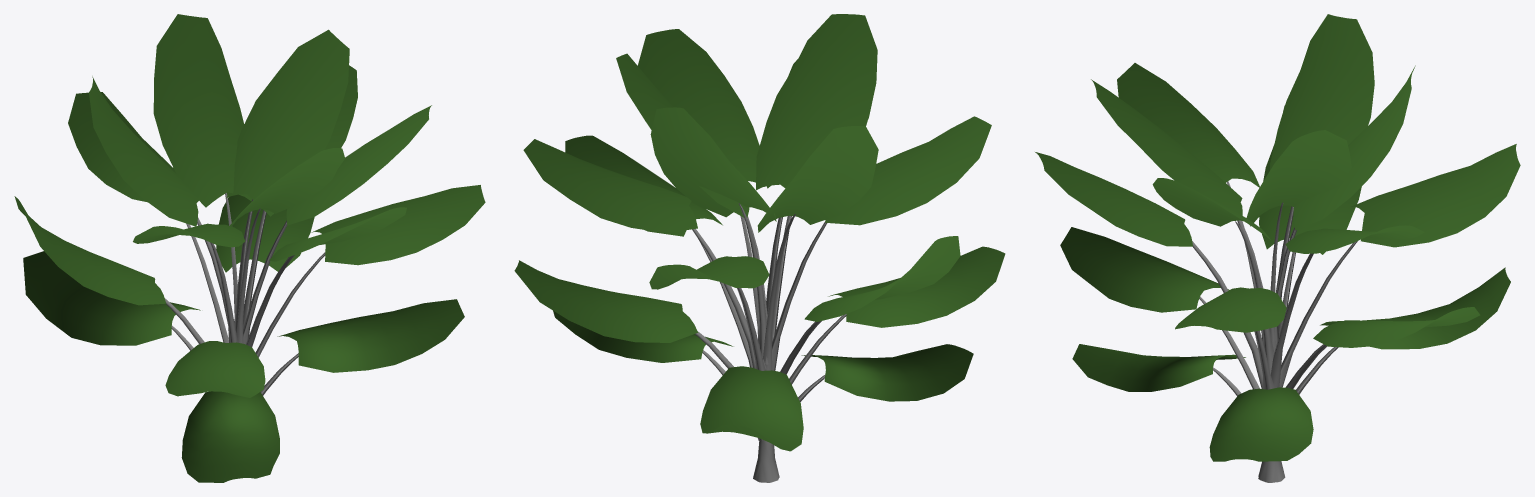
File: SM_plant_tropical_03.fbx
3 views of the same model, side by side, from view 1: azimuth 30°, elevation 25°; view 2: azimuth 150°, elevation 25°; view 3: azimuth 270°, elevation 25° (orthographic). The views are drawn at different scales.
Parts seen in each view (by area): view 1: tree018; view 2: tree018; view 3: tree018.
Boxes of the visible parts, left/top/right/bottom form: tree018: left=14, top=14, right=485, bottom=482; tree018: left=514, top=14, right=1005, bottom=482; tree018: left=1035, top=14, right=1520, bottom=482.
Size of the model in its own units: 59.63 by 54.82 by 57.83.
